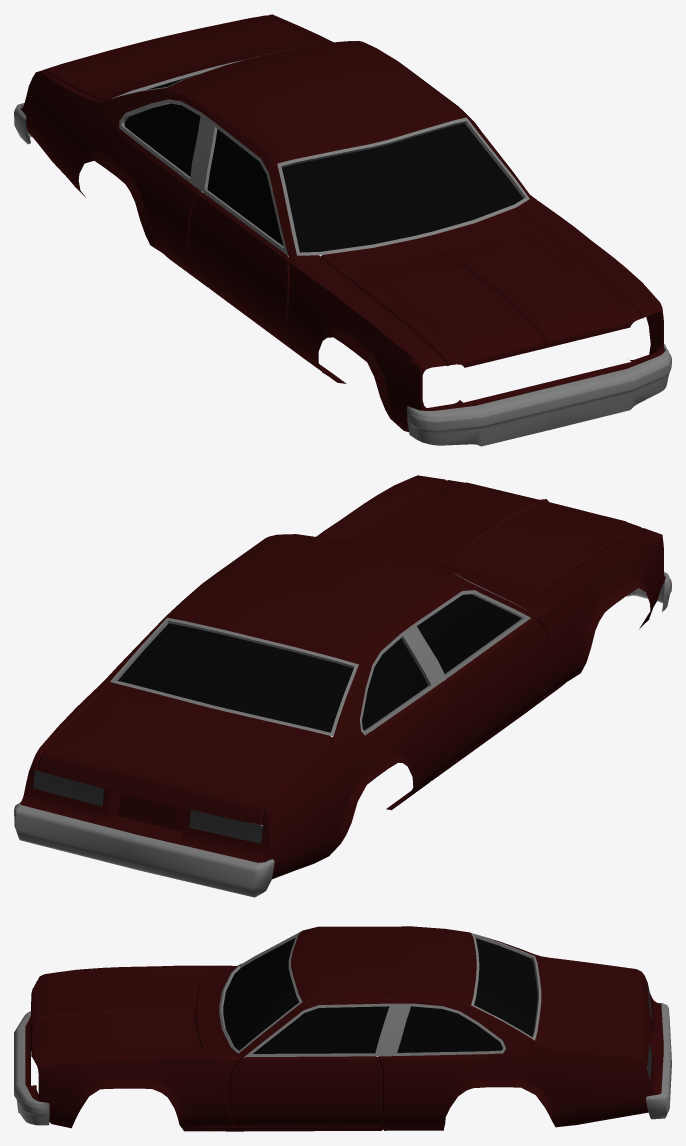
File: bourbon_chuckles.fbx
3 renders of one model, top to bottom at view 1: azimuth 30°, elevation 25°; view 2: azimuth 150°, elevation 25°; view 3: azimuth 270°, elevation 25°, orthographic. The views are drawn at different scales.
Parts seen in each view (by area): view 1: RearFender_paintable, Windows, Hood_paintable, FrontFender_paintable, Chrome, Trunk_paintable, Doors_paintable, Body_paintable; view 2: RearFender_paintable, Trunk_paintable, Windows, Hood_paintable, Chrome, FrontFender_paintable, Doors_paintable, RearLights, Body_paintable; view 3: RearFender_paintable, Windows, FrontFender_paintable, Hood_paintable, Doors_paintable, Trunk_paintable, Chrome, Body_paintable.
Part boxes in pixels (bbox=[...]): RearFender_paintable: bbox=[20, 14, 533, 287]; Windows: bbox=[124, 74, 523, 252]; Hood_paintable: bbox=[339, 225, 642, 367]; FrontFender_paintable: bbox=[288, 198, 664, 432]; Chrome: bbox=[14, 41, 671, 446]; Trunk_paintable: bbox=[43, 15, 323, 100]; Doors_paintable: bbox=[189, 192, 536, 349]; Body_paintable: bbox=[205, 208, 533, 383]; RearFender_paintable: bbox=[20, 534, 533, 879]; Trunk_paintable: bbox=[38, 683, 331, 824]; Windows: bbox=[118, 594, 521, 732]; Hood_paintable: bbox=[348, 480, 641, 595]; Chrome: bbox=[14, 572, 671, 897]; FrontFender_paintable: bbox=[316, 475, 665, 703]; Doors_paintable: bbox=[438, 618, 550, 772]; RearLights: bbox=[33, 770, 262, 843]; Body_paintable: bbox=[428, 563, 565, 780]; RearFender_paintable: bbox=[237, 926, 663, 1130]; Windows: bbox=[223, 938, 537, 1053]; FrontFender_paintable: bbox=[25, 965, 244, 1128]; Hood_paintable: bbox=[30, 976, 202, 1060]; Doors_paintable: bbox=[229, 1056, 382, 1126]; Trunk_paintable: bbox=[535, 957, 649, 1067]; Chrome: bbox=[14, 931, 671, 1125]; Body_paintable: bbox=[182, 974, 382, 1131].
Bounding box in the file's own units: 22.36 × 13.72 × 60.31.
